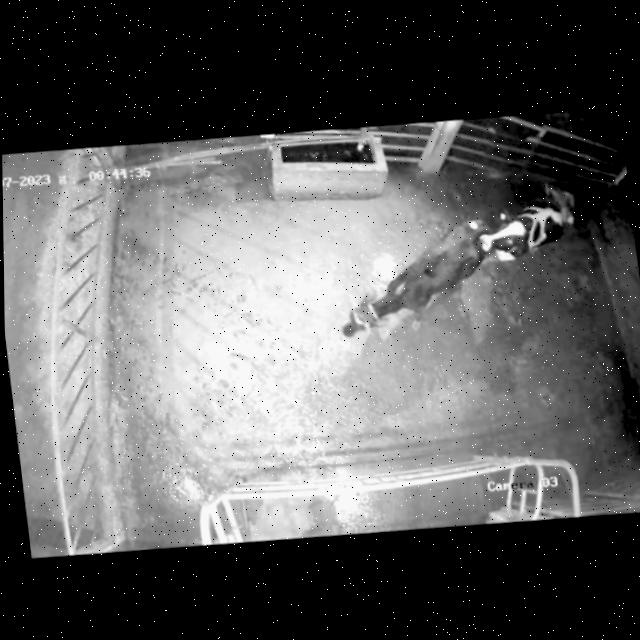propping: (438, 193, 541, 290)
stand: (311, 206, 505, 370)
